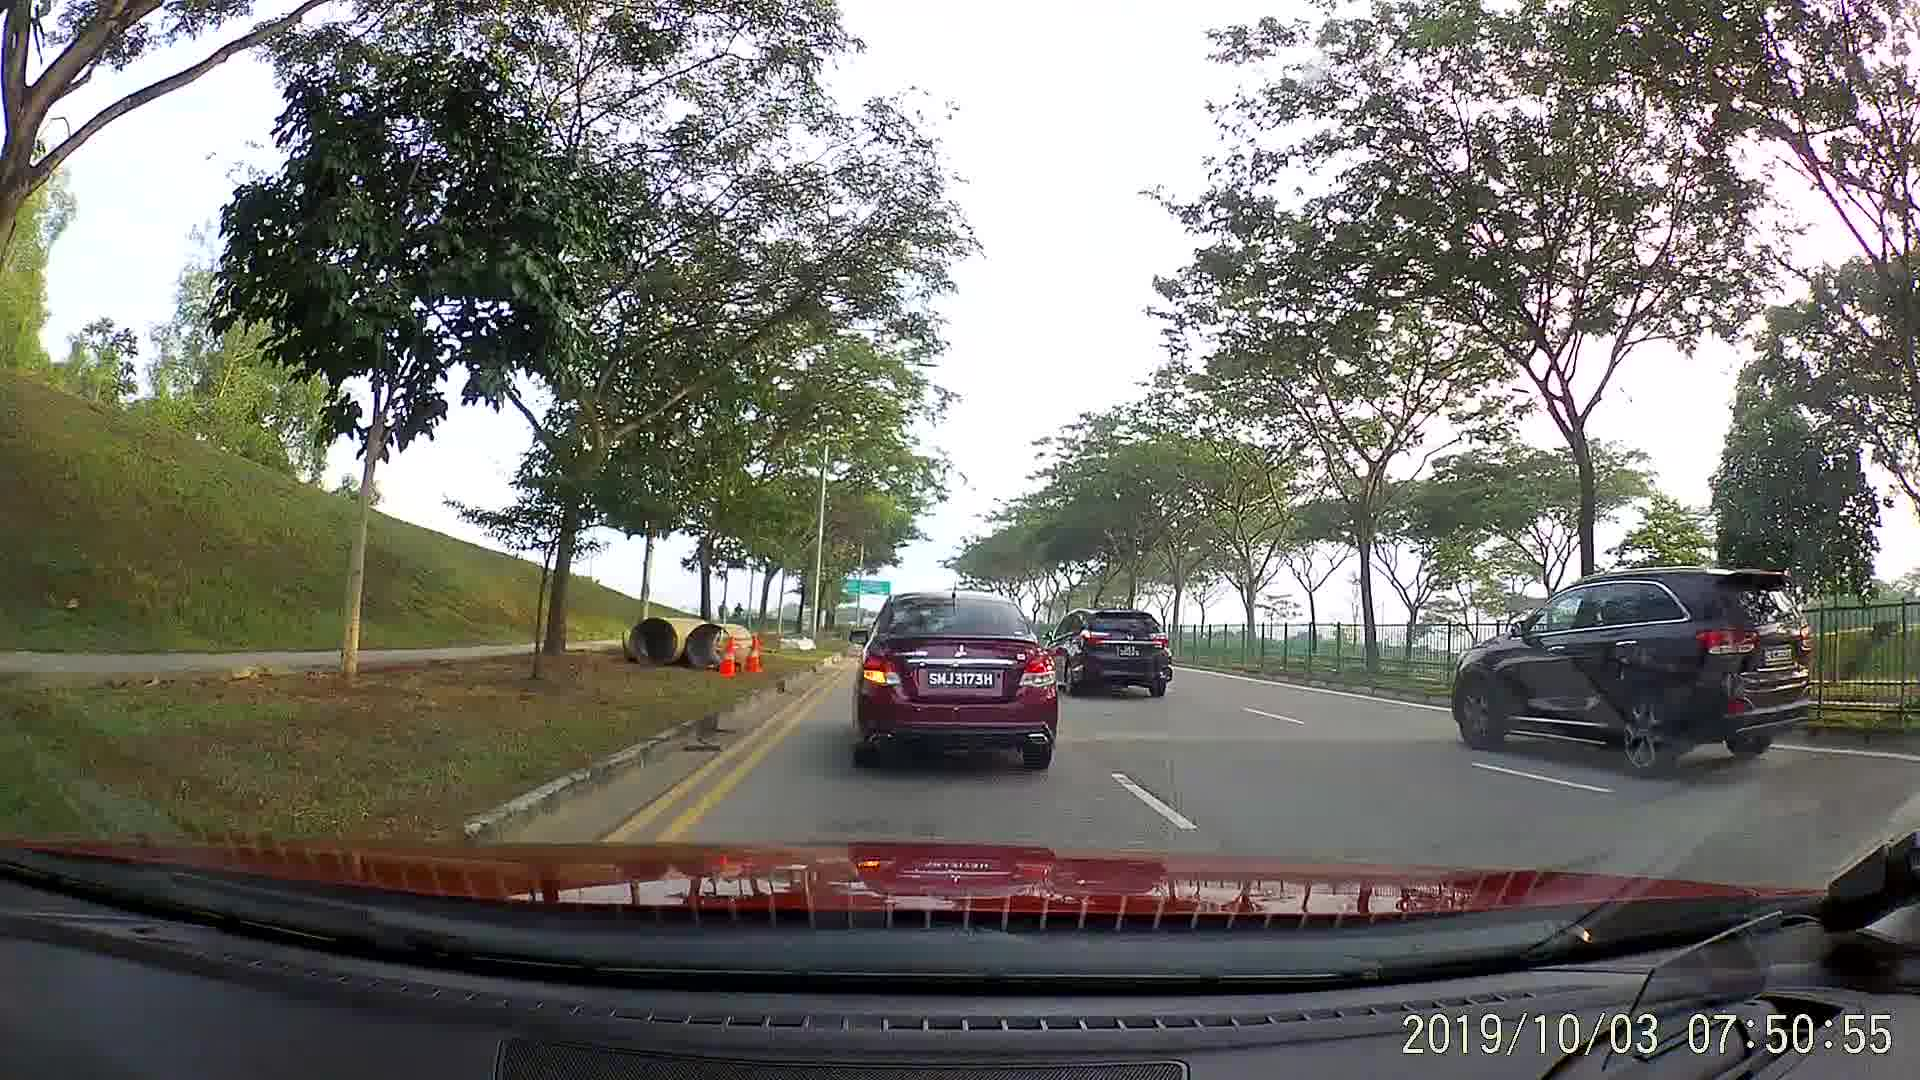car: (1448, 566, 1818, 778), (837, 582, 1062, 775), (1042, 603, 1176, 696)
